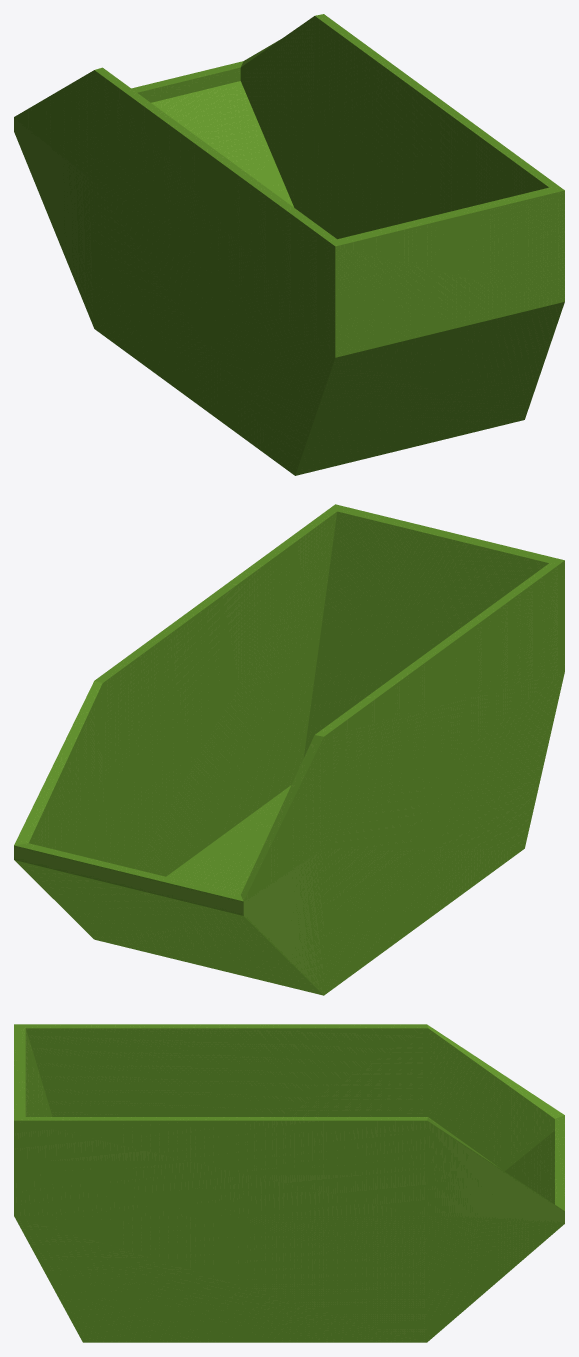
Rendered from container-rubble-green.glb.
The picture shows the model from 3 angles, top to bottom: view 1: azimuth 30°, elevation 25°; view 2: azimuth 150°, elevation 25°; view 3: azimuth 270°, elevation 25°; orthographic projection. The views are drawn at different scales.
Parts seen in each view (by area): view 1: Container Green; view 2: Container Green; view 3: Container Green.
Boxes of the visible parts, left/top/right/bottom form: Container Green: left=14, top=14, right=564, bottom=475; Container Green: left=14, top=504, right=564, bottom=995; Container Green: left=14, top=1024, right=564, bottom=1342.
Size of the model in its own units: 1.65 by 1.78 by 4.
Materials: 1 (1 with a texture image).
